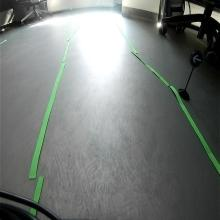left: (189, 49, 205, 70)
